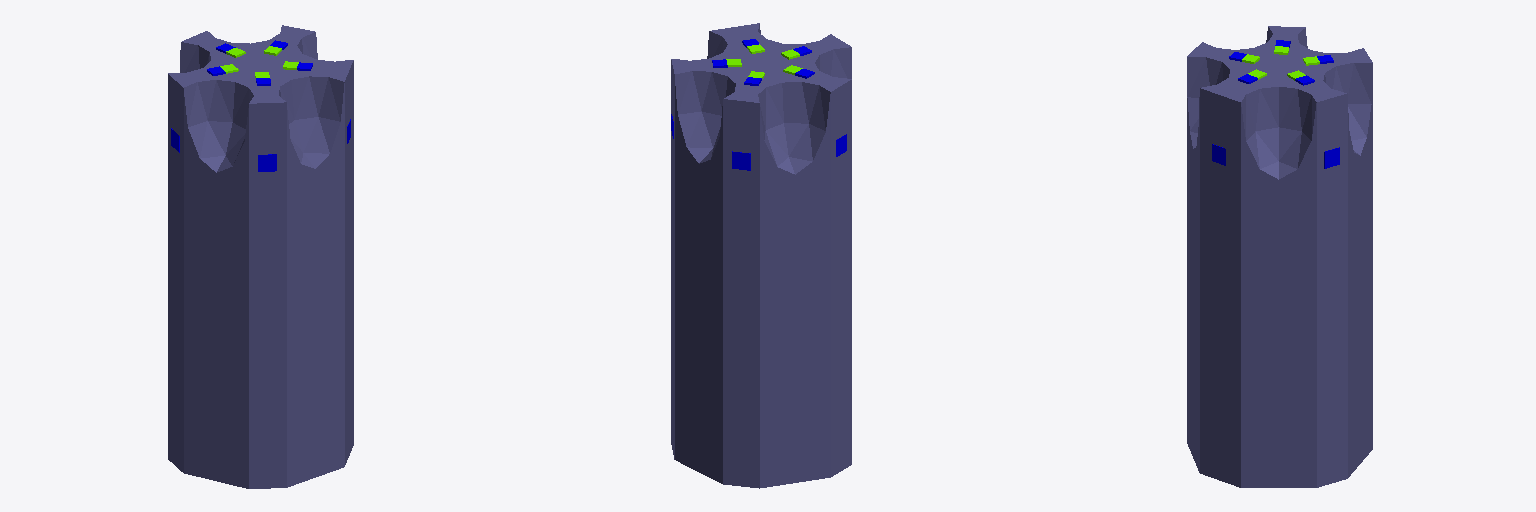
The model's file is CarbineAmmo.obj.
The picture shows the model from 3 angles: view 1: azimuth 30°, elevation 25°; view 2: azimuth 150°, elevation 25°; view 3: azimuth 270°, elevation 25°; orthographic projection.
Visible parts, largest first — view 1: the_node.045_tri_1836_geometry; view 2: the_node.045_tri_1836_geometry; view 3: the_node.045_tri_1836_geometry.
Boxes of the visible parts, <box> form: the_node.045_tri_1836_geometry: <box>168,25,353,488</box>; the_node.045_tri_1836_geometry: <box>671,23,851,488</box>; the_node.045_tri_1836_geometry: <box>1187,26,1372,487</box>.
Size of the model in its own units: 0.0426 by 0.1006 by 0.0439.